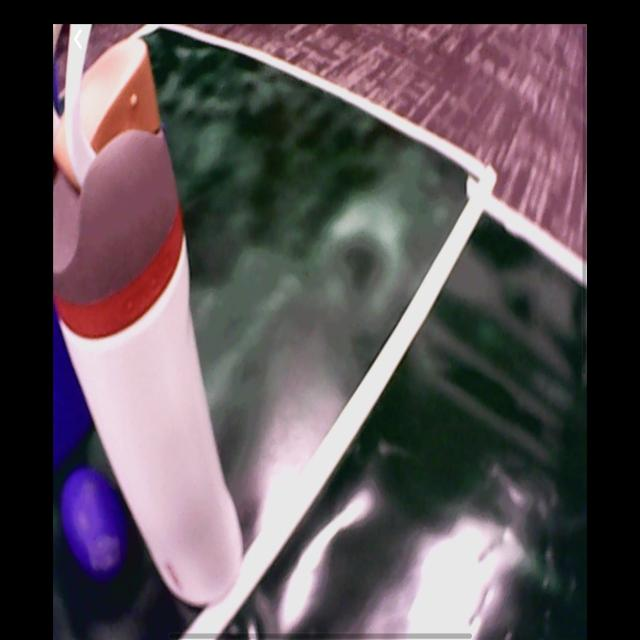ball: (61, 471, 129, 577)
